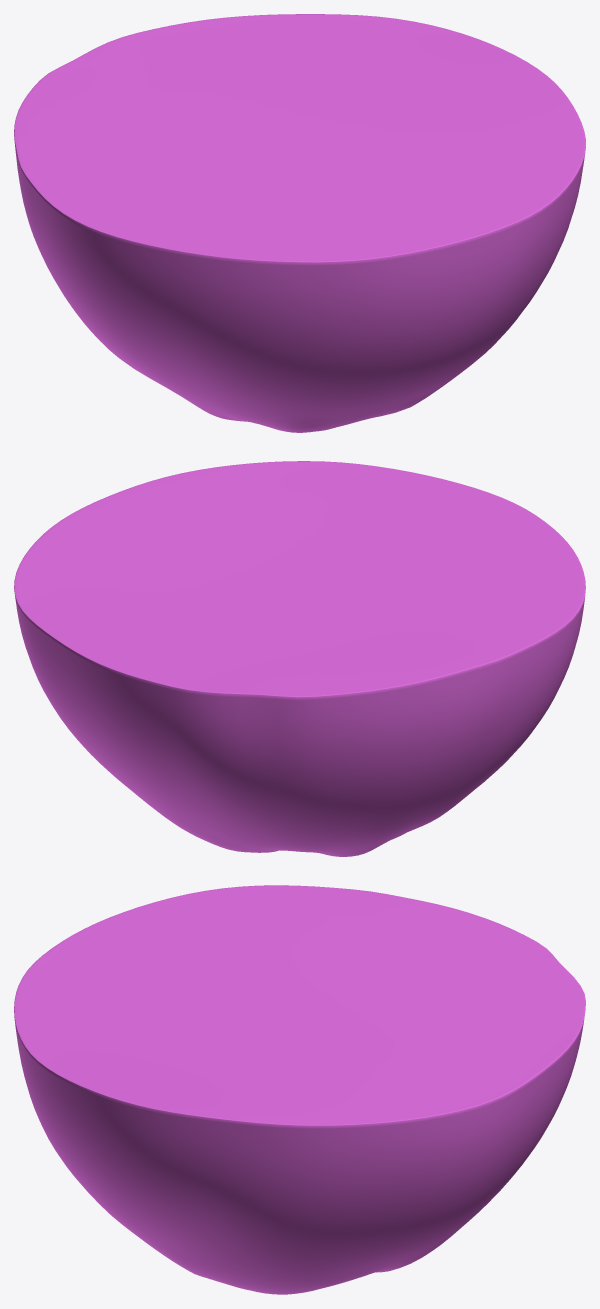
The model's file is orange.gltf.
3 views of the same model, one above another, from view 1: azimuth 30°, elevation 25°; view 2: azimuth 150°, elevation 25°; view 3: azimuth 270°, elevation 25° (orthographic). The views are drawn at different scales.
Visible parts, largest first — view 1: Orange Cut; view 2: Orange Cut; view 3: Orange Cut.
Part boxes in pixels (<box>): Orange Cut: <box>14,14,585,432</box>; Orange Cut: <box>14,461,585,856</box>; Orange Cut: <box>14,885,585,1294</box>.
Size of the model in its own units: 169 by 82.07 by 170.
